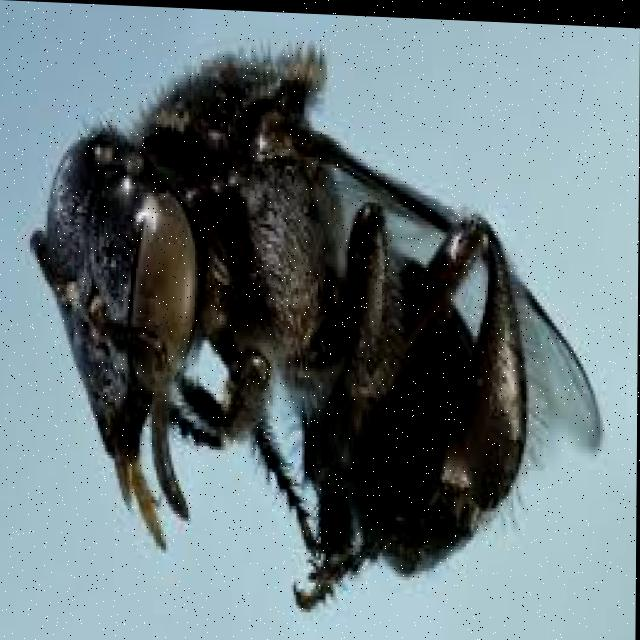Braunsapis: (31, 29, 608, 627)
